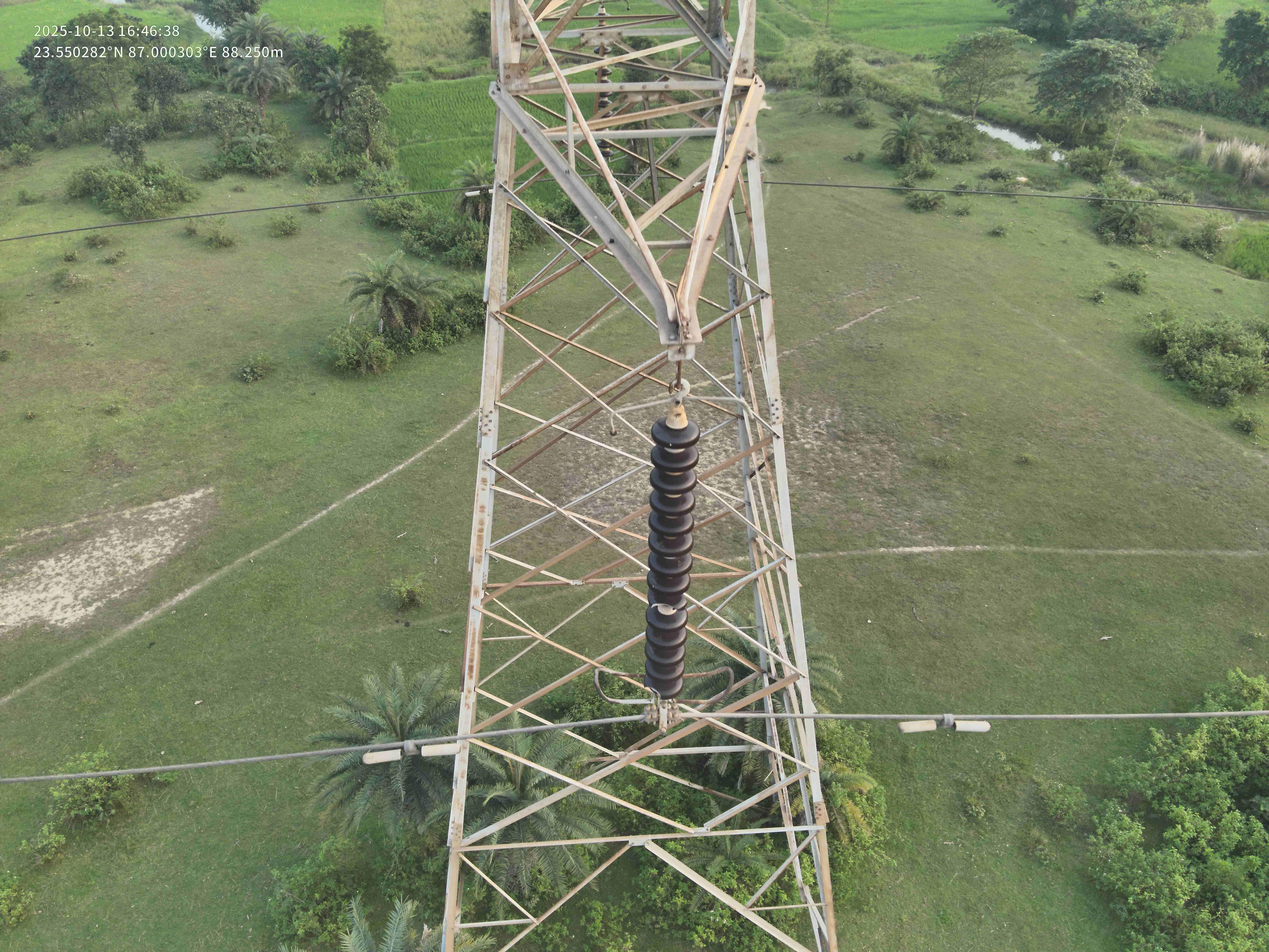broken_insulator: (648, 589, 691, 612), (644, 676, 684, 700)
